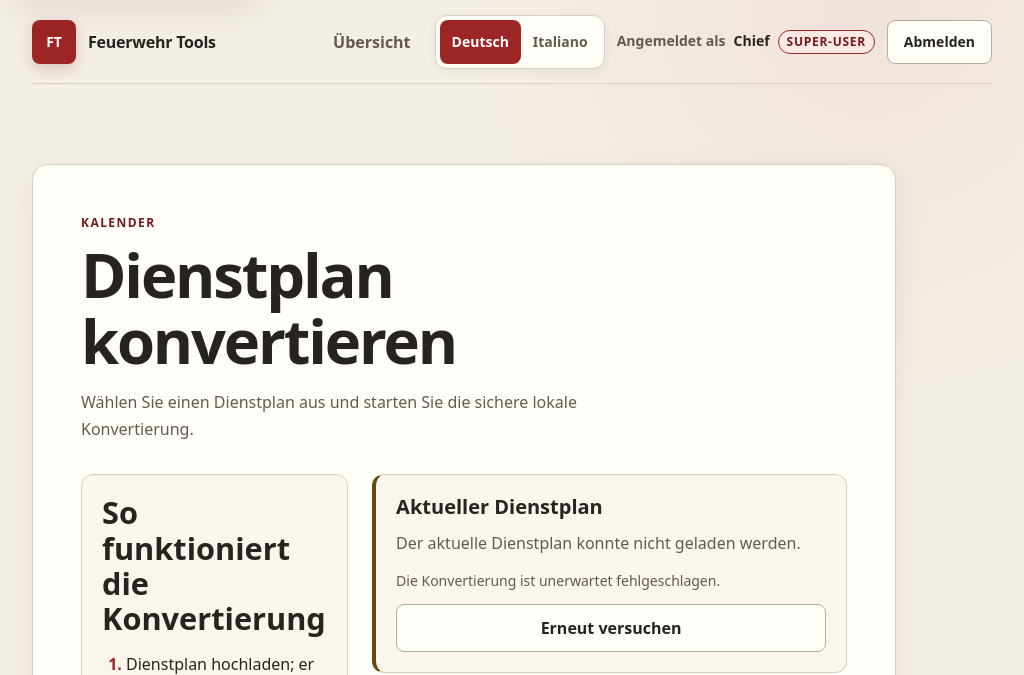
Test: calendar converter page › offers a retry when the schedule cannot be loaded
What coordinates should you click on to do the following:
click the button "Erneut versuchen"
I would click on:
 (611, 628)
Its box is [396,604,826,652].
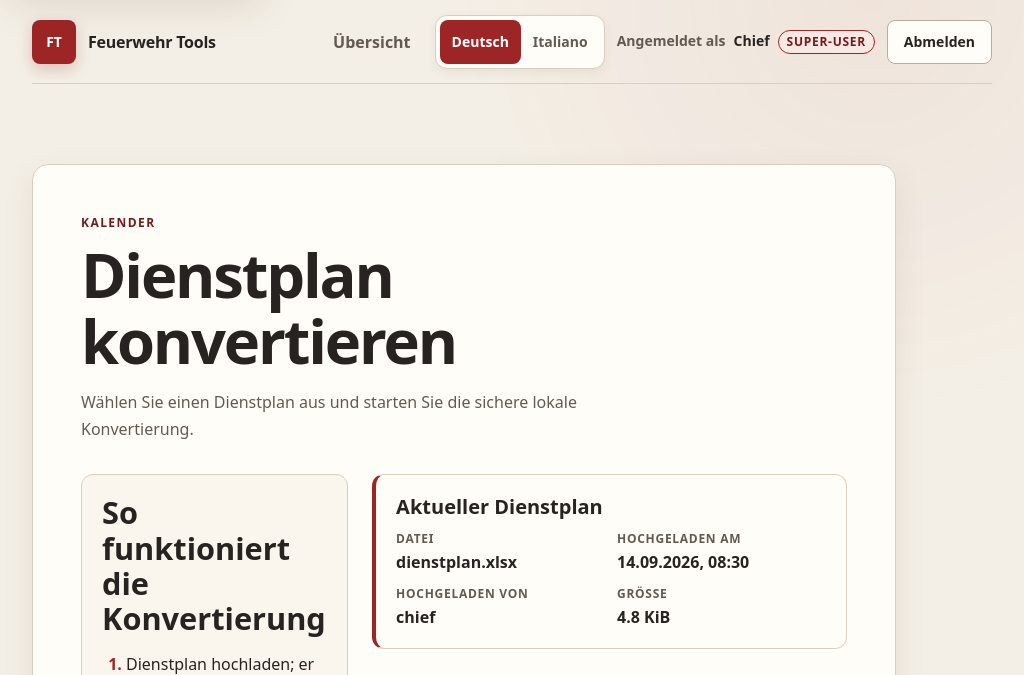
Now the text "dienstplan.xlsx" is shown, box [396,551,517,573]
